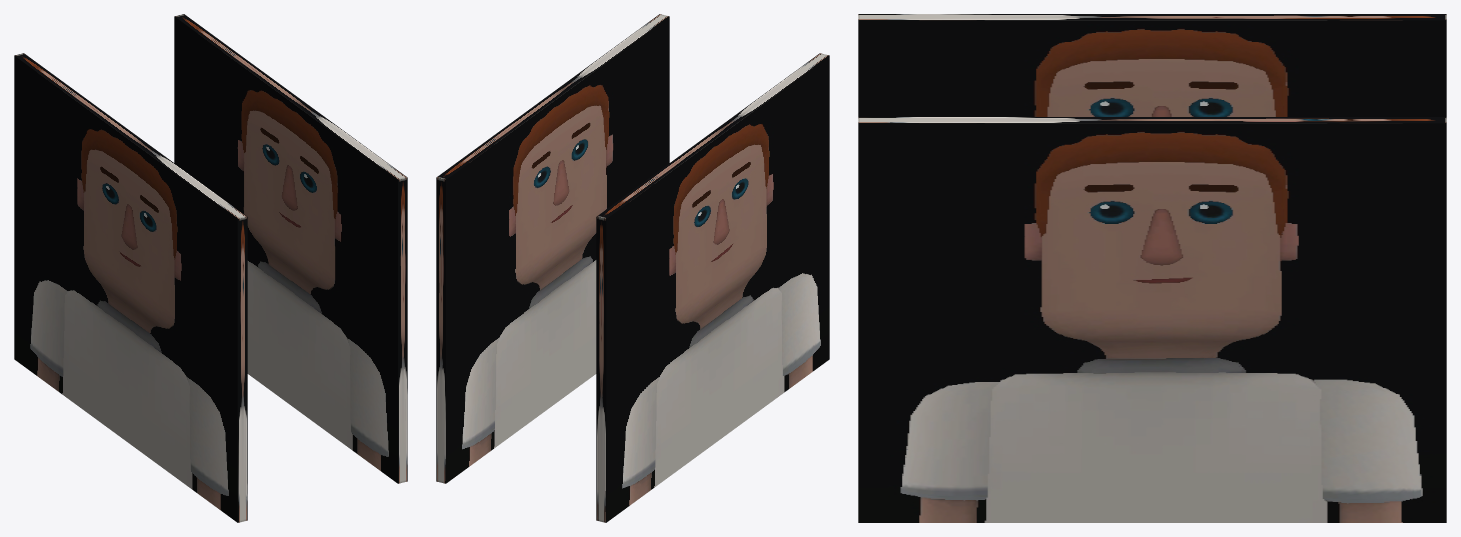
Rendered from fifteen.obj.
3 renders of one model, left to right at view 1: azimuth 30°, elevation 25°; view 2: azimuth 150°, elevation 25°; view 3: azimuth 270°, elevation 25°, orthographic. The views are drawn at different scales.
Size of the model in its own units: 21.22 by 36.23 by 48.34.
Materials: 1 (1 with a texture image).
